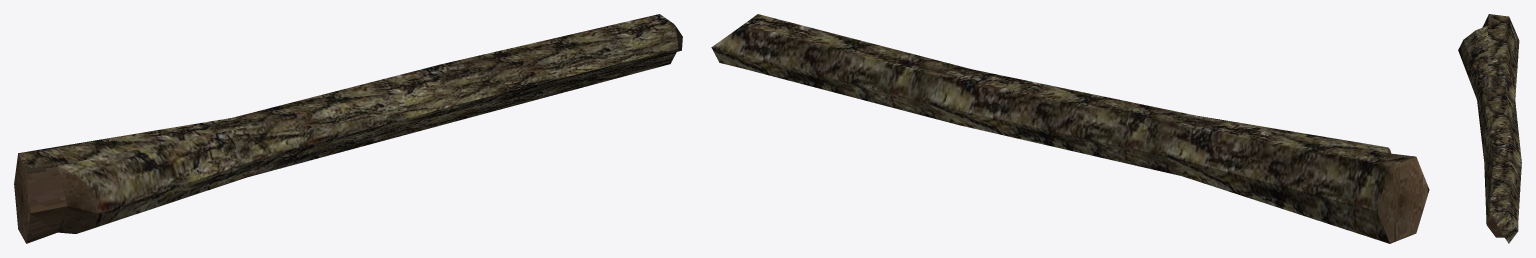
The model's file is WOODPIECE.glb.
3 renders of one model, left to right at view 1: azimuth 30°, elevation 25°; view 2: azimuth 150°, elevation 25°; view 3: azimuth 270°, elevation 25°, orthographic. The views are drawn at different scales.
Parts seen in each view (by area): view 1: WOODPIECE; view 2: WOODPIECE; view 3: WOODPIECE.
Boxes of the visible parts, bbox=[...] form: WOODPIECE: bbox=[14, 14, 682, 243]; WOODPIECE: bbox=[711, 14, 1429, 243]; WOODPIECE: bbox=[1458, 14, 1521, 243].
Bounding box in the file's own units: 0.7329 × 0.0787 × 0.1007.
Materials: 2 (2 with a texture image).
